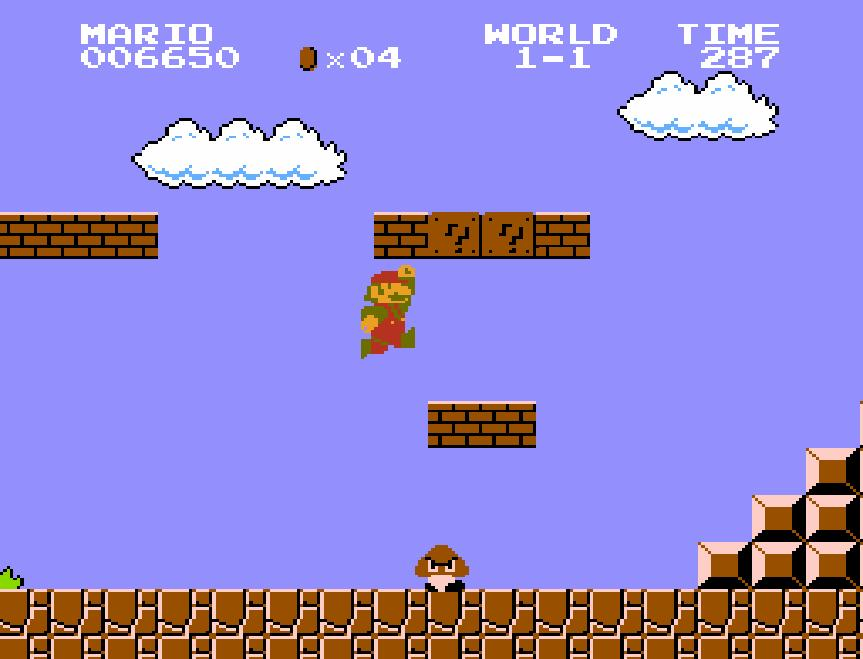big_mario: (358, 263, 416, 361)
